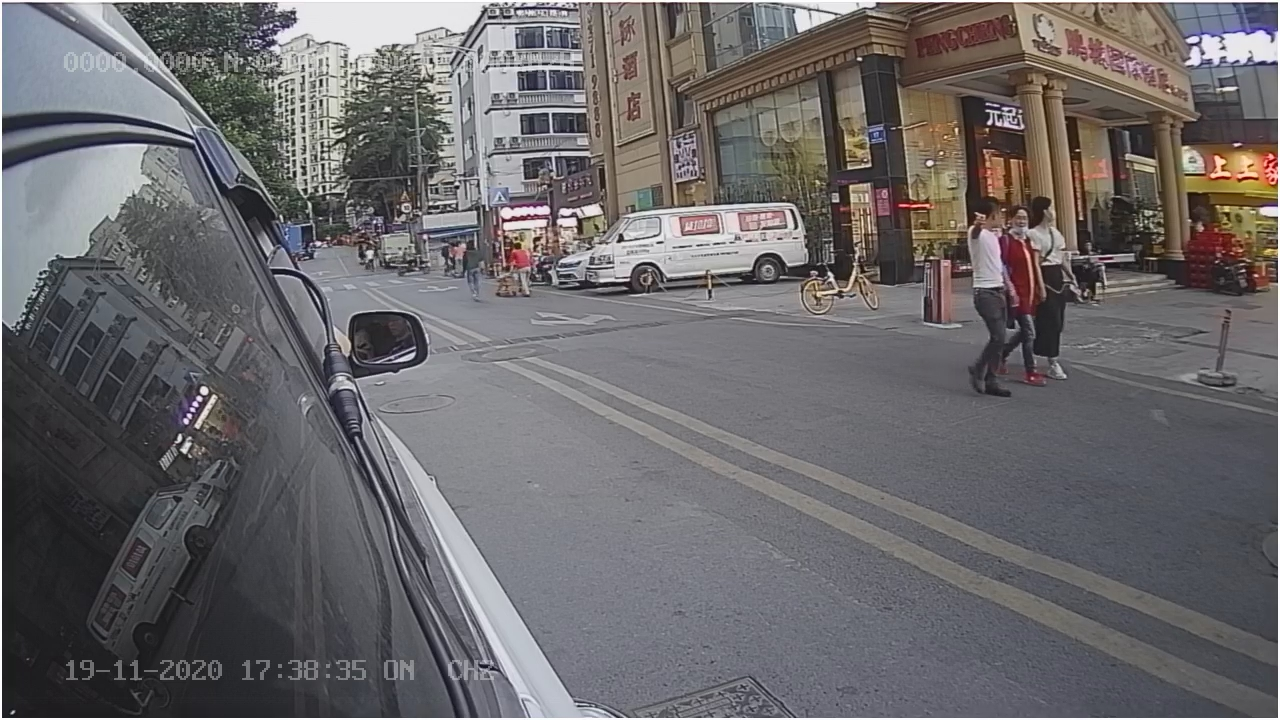person: (955, 199, 1029, 404)
